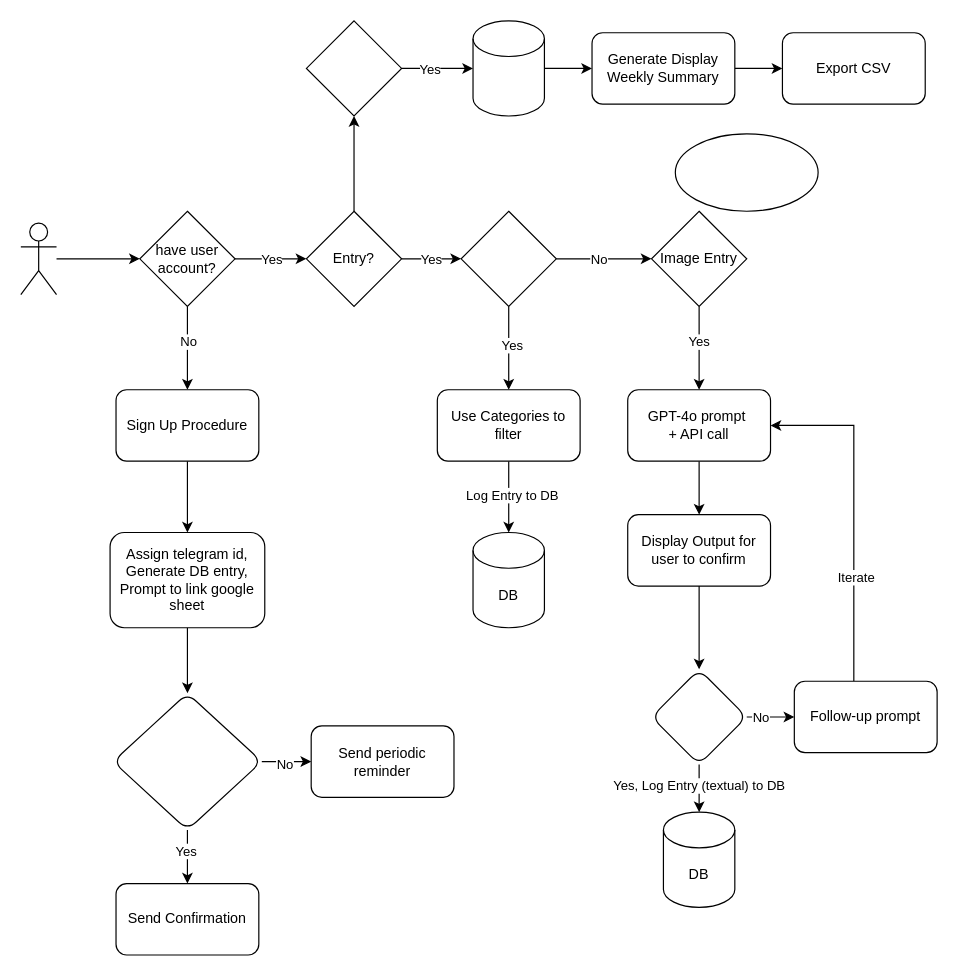
This 958x976 diagram has some shape labels left out. The shapes that lost their labels are listed below. From the top down, each one's centre as x and y in pixels, then its label:
(353,68): Summary?
(508,68): Query DB
(746,172): Image + Text instruction on which part of the receipt to extract
(38,258): User
(508,258): Text Entry
(698,716): Good?
(187,761): Completed google sheet linkage?
